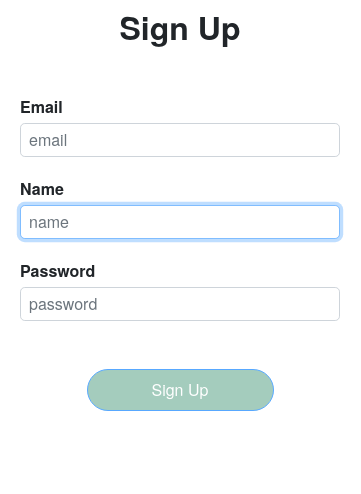
Test: Signup › failure › signup: network error
Type "totally@valid.email" into the field labelled "Email" at point(180, 140), box left=20, top=123, right=340, bottom=157
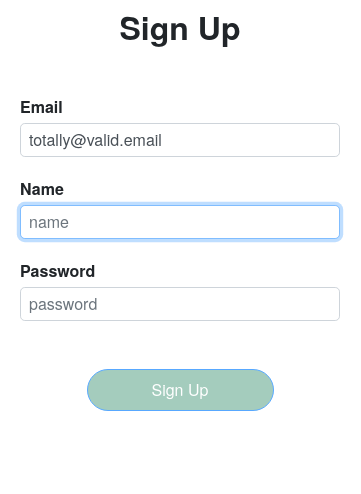
Type "Buckaroo Banzai" into the field labelled "Name" at point(180, 222), box left=20, top=205, right=340, bottom=239
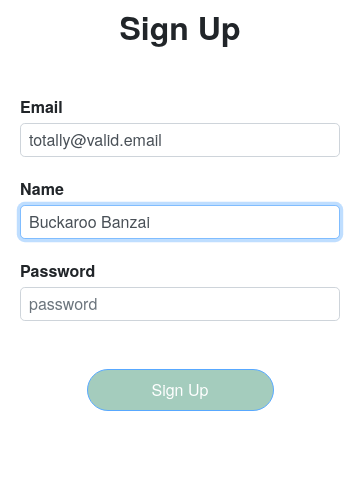
Type "qwerty1!" into the password field labelled "Password" at point(180, 304), box left=20, top=287, right=340, bottom=321
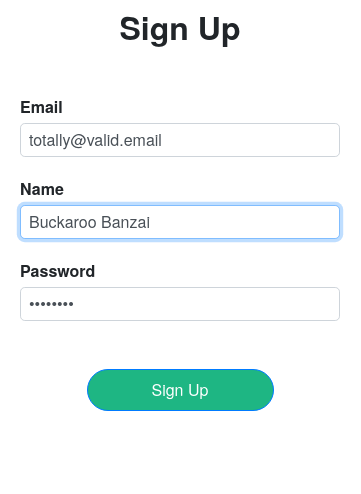
Click the button at point(180, 390), box left=86, top=369, right=274, bottom=411
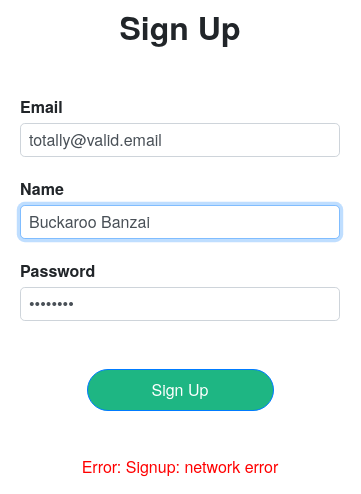
Check: the text "Error: Signup: network error" is shown, box left=82, top=459, right=278, bottom=475
